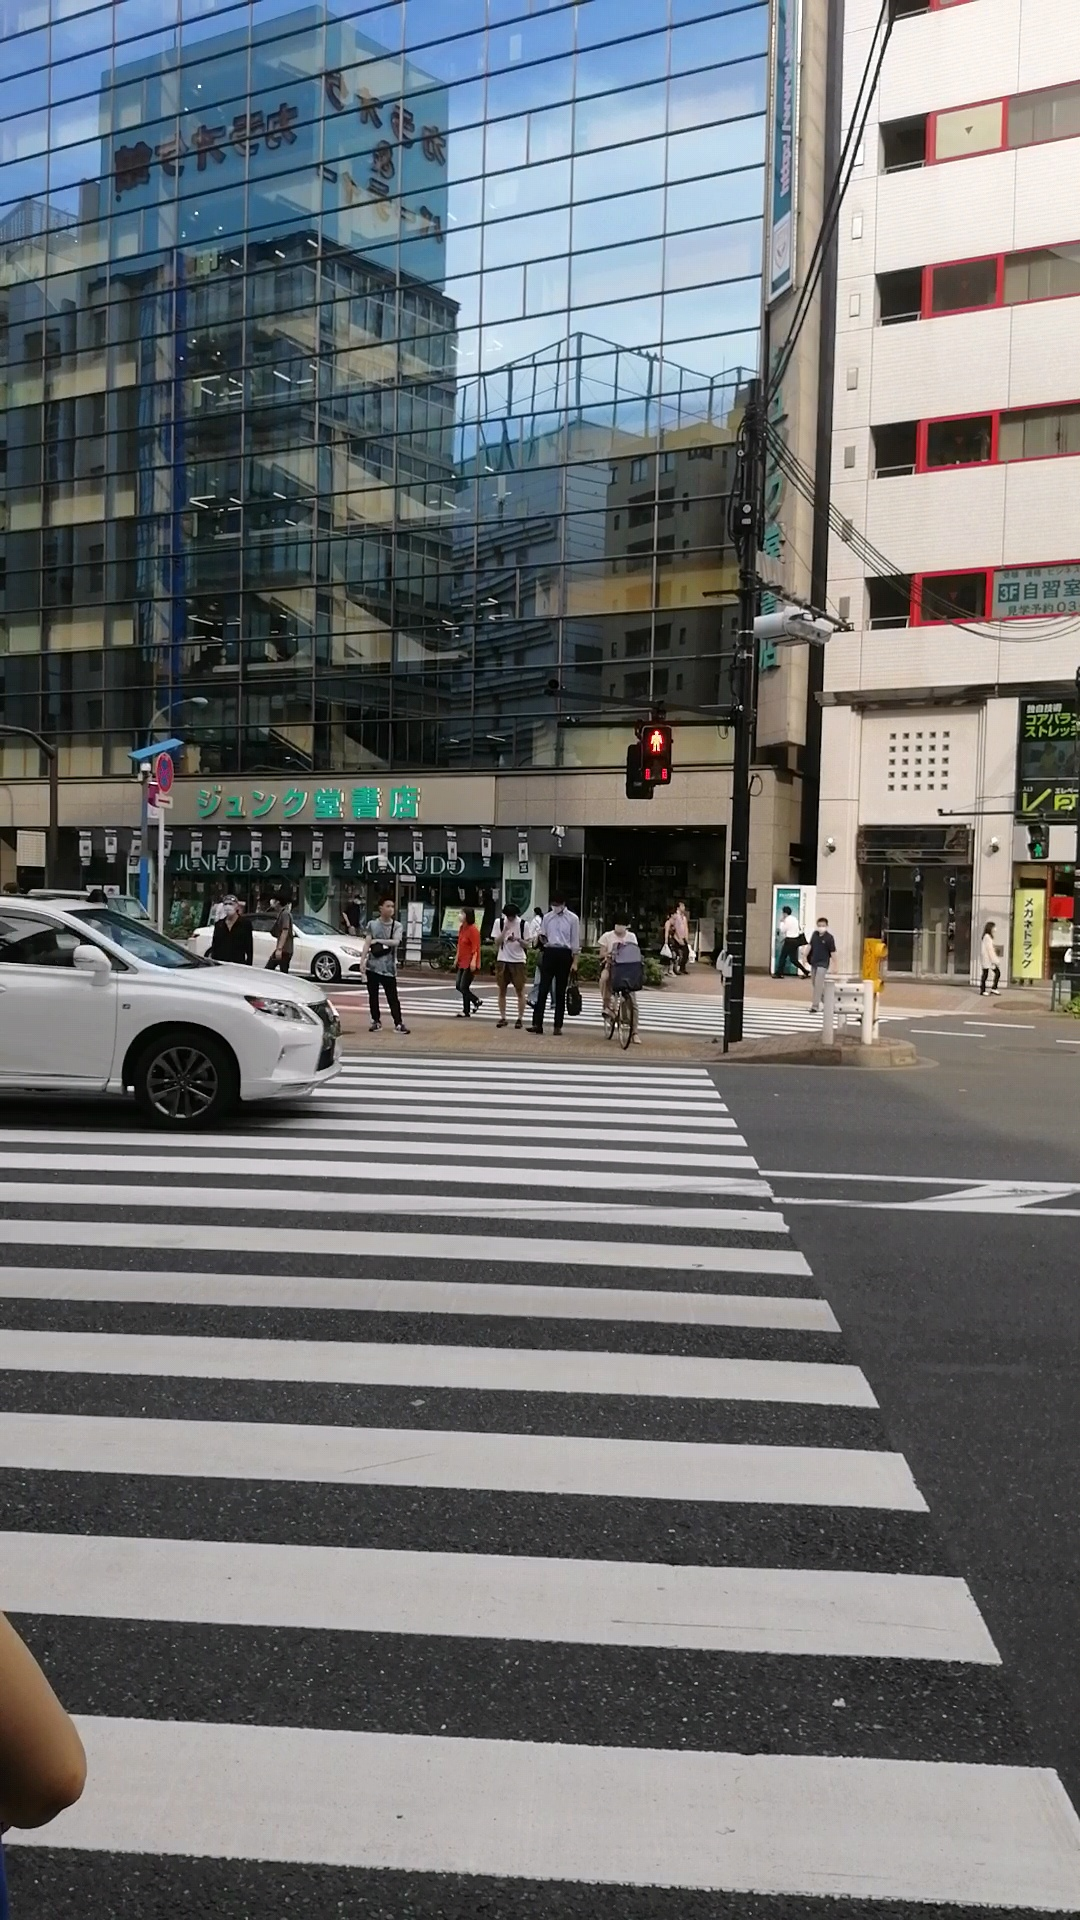red: (637, 725, 673, 786)
